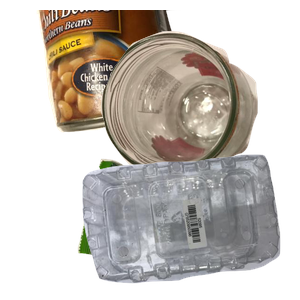glass: (98, 29, 300, 198)
metal: (34, 10, 213, 135)
plastic: (80, 152, 300, 300)
trash: (75, 156, 244, 300)
